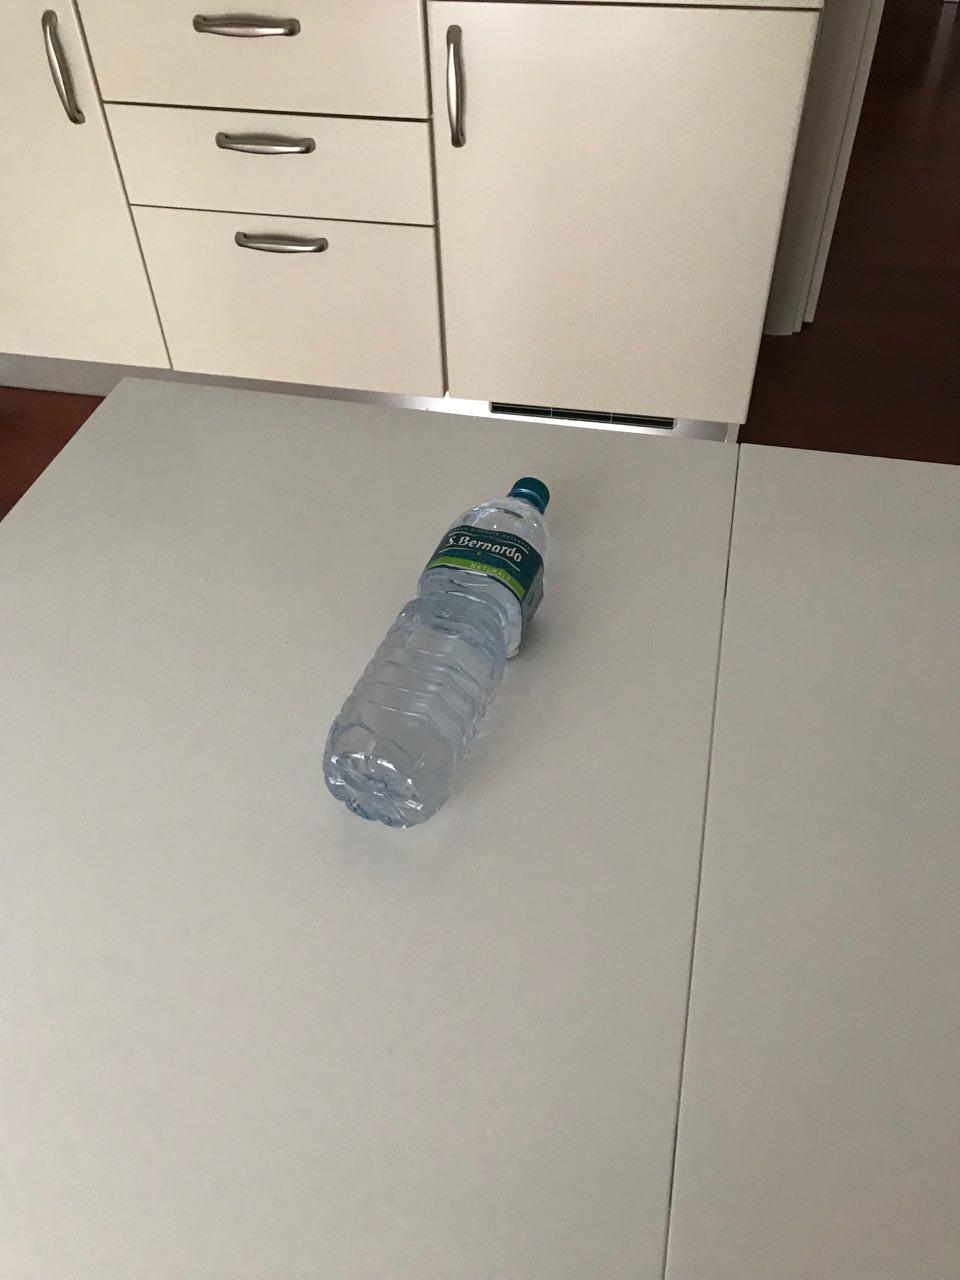san_bernardo: (322, 477, 553, 829)
